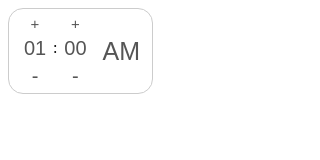
it: TimeInput – stepping › toggles AM/PM in Gregorian mode
Click the button "AM": x=121, y=51 [98, 33, 144, 70]
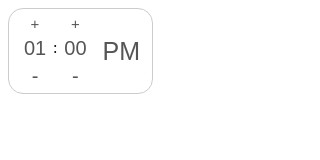
Result: the button "PM" is shown at [98, 33, 144, 70]
